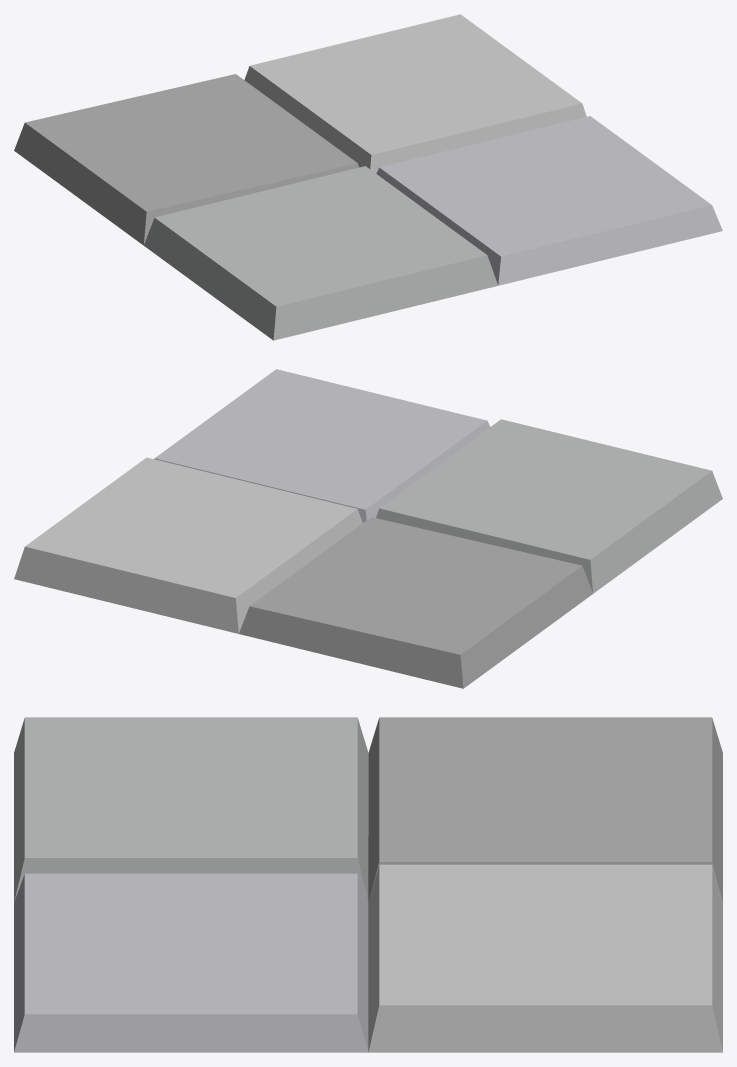
The model's file is Rock_Tiles_m_01.fbx.
3 renders of one model, top to bottom at view 1: azimuth 30°, elevation 25°; view 2: azimuth 150°, elevation 25°; view 3: azimuth 270°, elevation 25°, orthographic. The views are drawn at different scales.
Parts seen in each view (by area): view 1: Rock_Tiles_m_01; view 2: Rock_Tiles_m_01; view 3: Rock_Tiles_m_01.
Part boxes in pixels (x1,y1,x2,y2): Rock_Tiles_m_01: [14, 14, 722, 340]; Rock_Tiles_m_01: [14, 369, 722, 688]; Rock_Tiles_m_01: [14, 717, 722, 1052].
Bounding box in the file's own units: 80 × 5.33 × 80.
